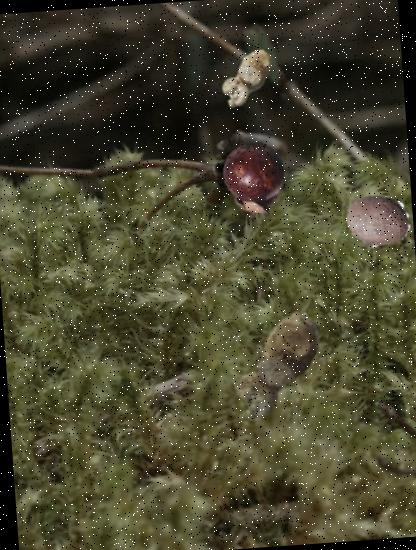Cocos: (344, 186, 412, 255)
Ginger: (213, 301, 342, 430), (210, 42, 283, 114)
Mangostan: (213, 137, 293, 217)
